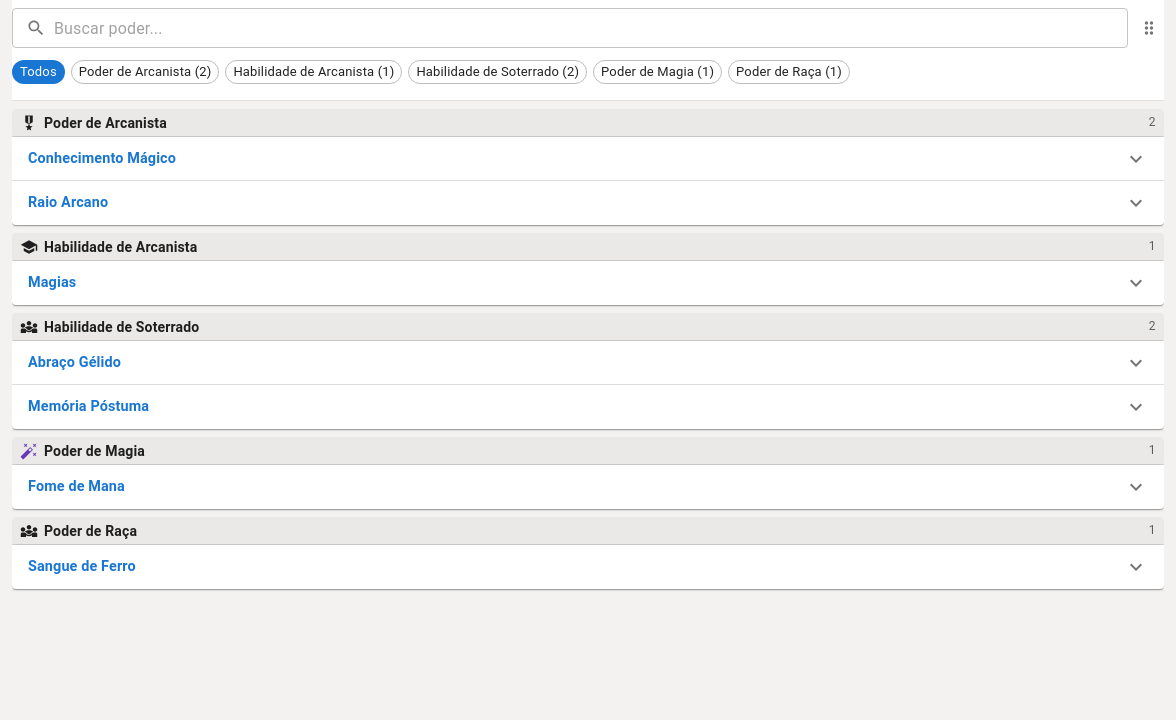
Scenario: PowersDisplay em modo reordenar › volta ao agrupamento ao concluir
The width and height of the screenshot is (1176, 720).
Click the button named "Reordenar poderes".
click(1149, 28)  # box [1134,13,1164,43]
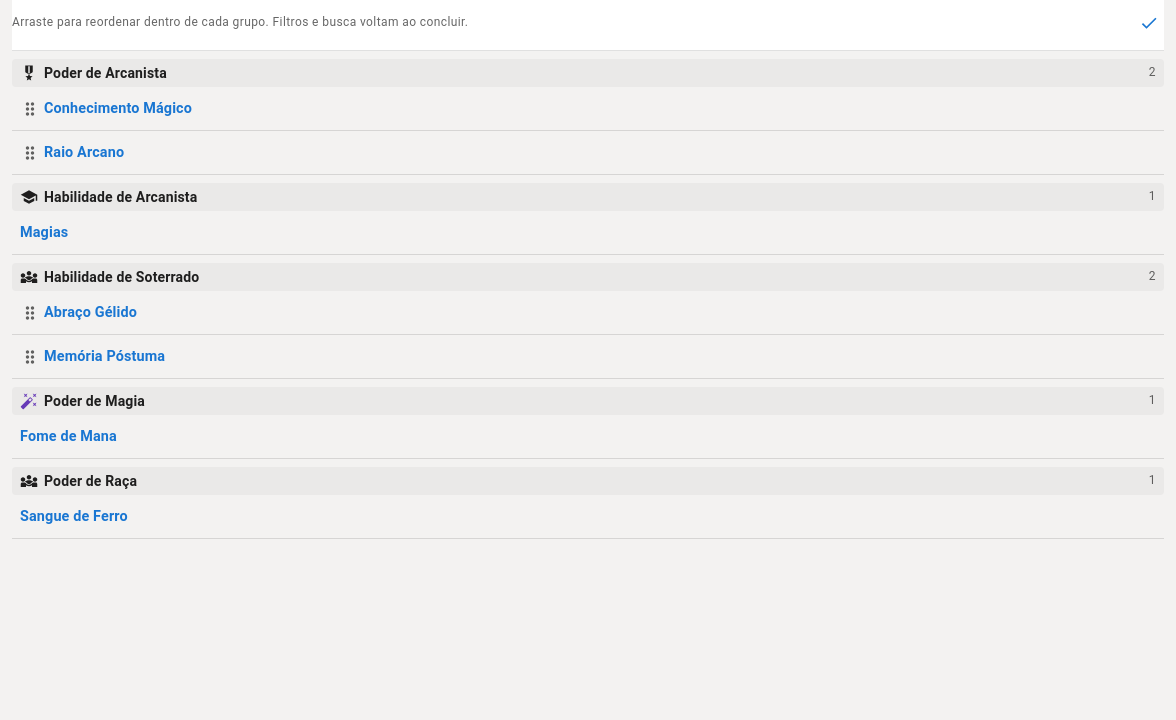
Click the button named "Concluir reordenação".
click(1149, 23)  # box [1134,8,1164,38]
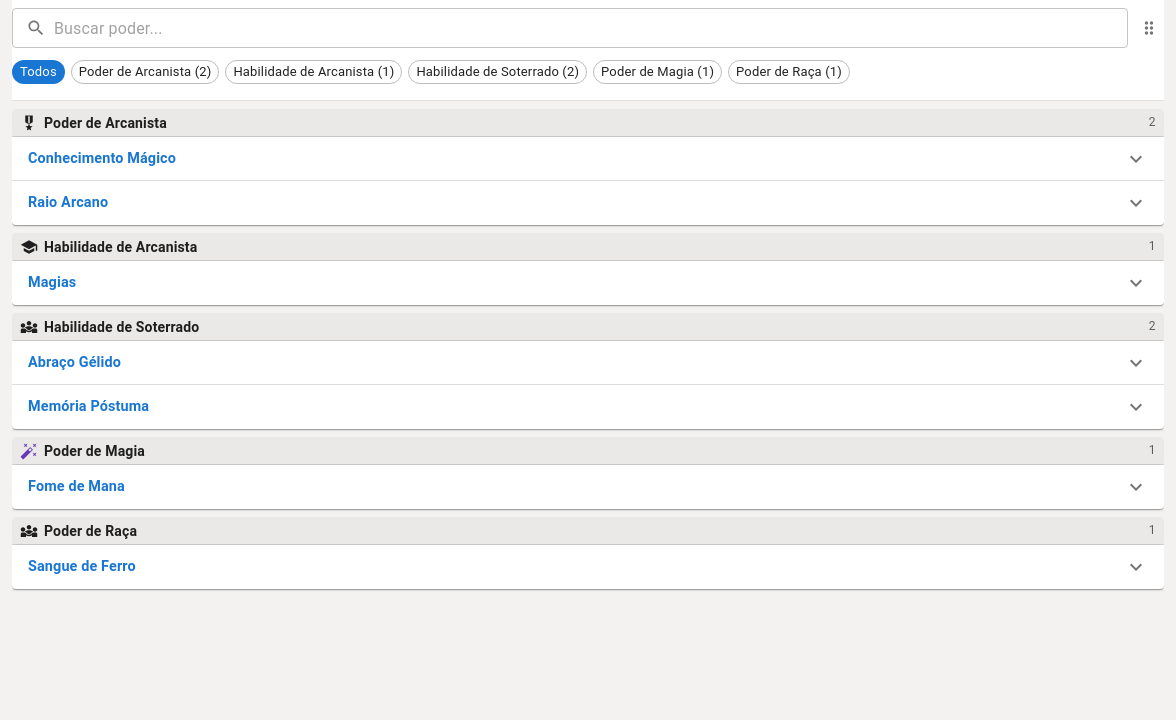
Check: the text "Poder de Arcanista" is shown, box [44,115,167,131]
Check: the field with placeholder "Buscar poder..." is shown, box [54,8,1128,48]
